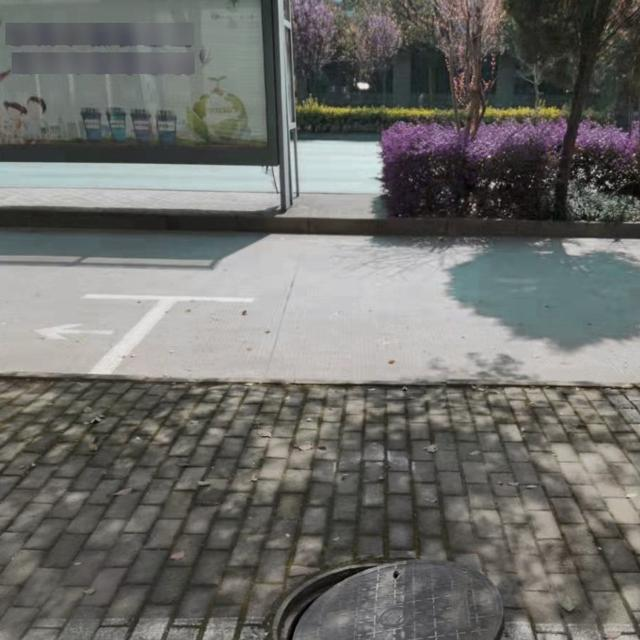uncovered: (273, 557, 506, 640)
